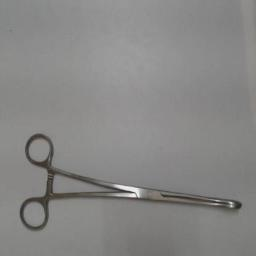Sponge Forceps: (16, 128, 248, 236)
